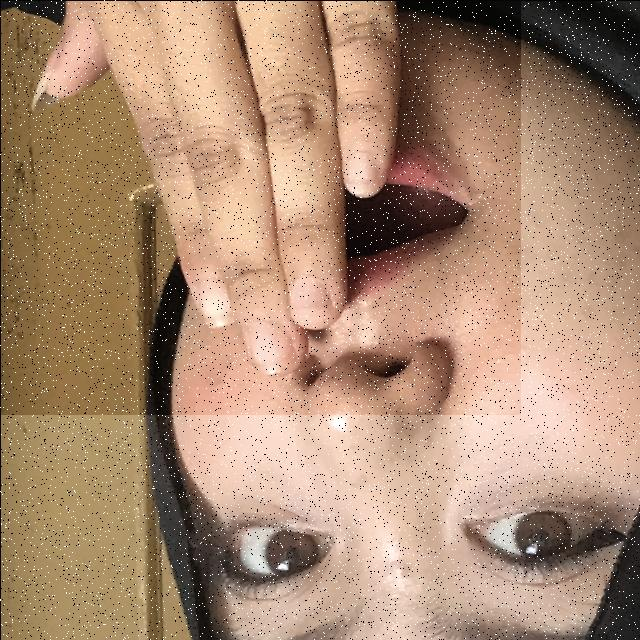ngantuk: (0, 0, 520, 414)
